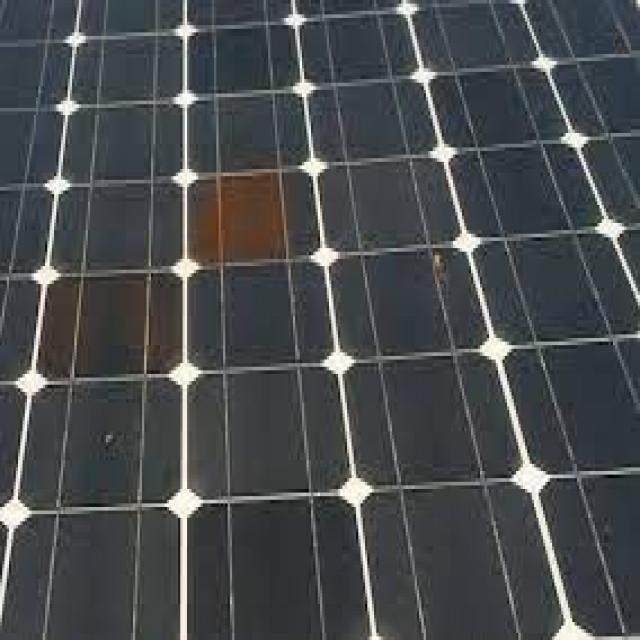faulty: (0, 22, 602, 540)
